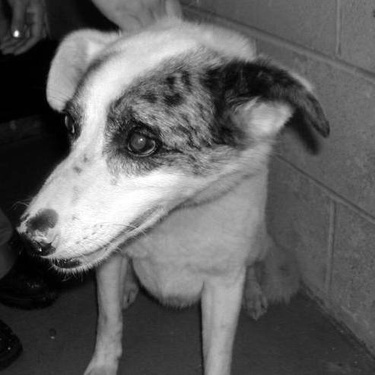dog: (16, 12, 332, 371)
